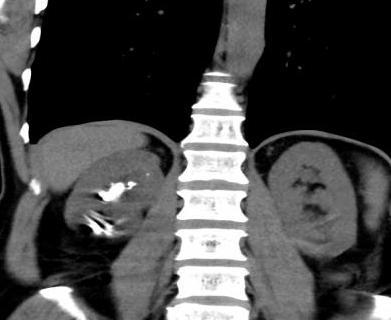Tas_Var: (98, 178, 128, 202), (86, 217, 104, 237), (104, 228, 114, 238), (104, 222, 115, 227), (128, 180, 138, 185), (126, 186, 135, 190), (146, 172, 152, 176)
